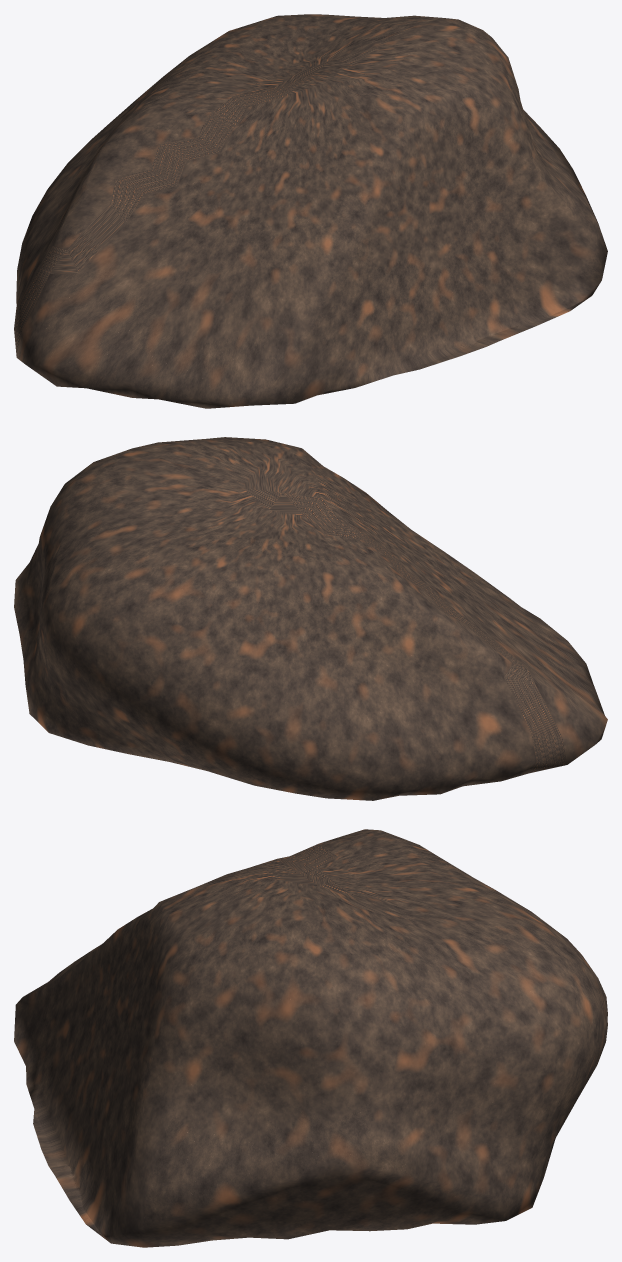
Rendered from boulder_1.dae.
The picture shows the model from 3 angles, top to bottom: view 1: azimuth 30°, elevation 25°; view 2: azimuth 150°, elevation 25°; view 3: azimuth 270°, elevation 25°; orthographic projection. The views are drawn at different scales.
Parts seen in each view (by area): view 1: boulder_1; view 2: boulder_1; view 3: boulder_1.
Boxes of the visible parts, x1,y1,x2,y2 form: boulder_1: [14, 14, 607, 408]; boulder_1: [14, 437, 607, 800]; boulder_1: [14, 829, 607, 1247].
Size of the model in its own units: 1.95 by 1.52 by 0.7602.
Materials: 1 (1 with a texture image).
